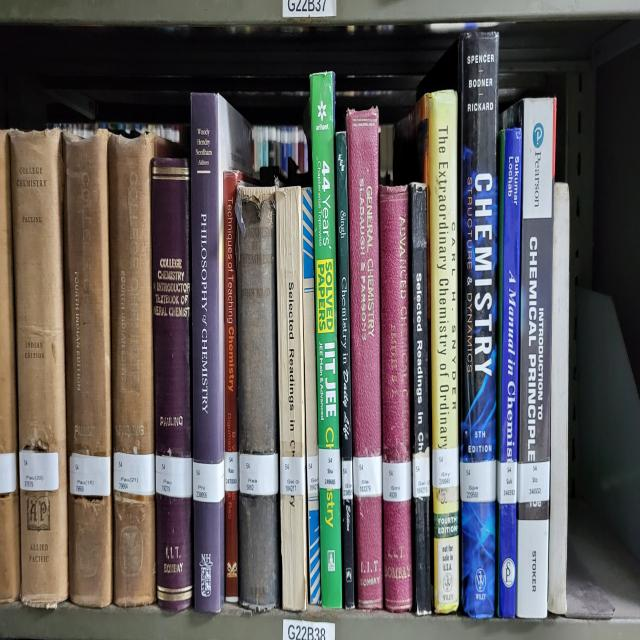Book: (418, 32, 499, 617), (395, 89, 460, 614), (191, 92, 251, 614), (108, 133, 171, 606), (10, 130, 69, 606), (62, 130, 112, 606), (235, 184, 280, 609), (346, 108, 384, 609), (518, 100, 554, 617), (151, 157, 192, 609), (310, 73, 342, 606), (379, 184, 412, 611), (275, 187, 308, 611), (496, 127, 522, 617), (224, 170, 248, 603), (409, 181, 431, 614), (335, 133, 355, 609), (302, 187, 320, 606)
Label: (70, 452, 111, 495), (114, 452, 155, 495), (239, 452, 279, 495), (19, 449, 59, 490), (155, 455, 192, 498), (460, 460, 496, 503), (192, 460, 225, 503), (518, 460, 550, 503), (352, 455, 382, 498), (382, 460, 411, 503), (432, 446, 459, 487), (280, 457, 305, 495), (496, 460, 518, 503), (319, 449, 341, 490), (412, 449, 430, 498), (225, 452, 239, 492), (306, 455, 319, 498), (341, 460, 352, 501)
